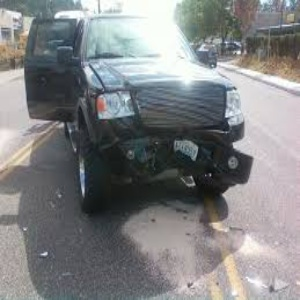bumper: (115, 133, 254, 190)
